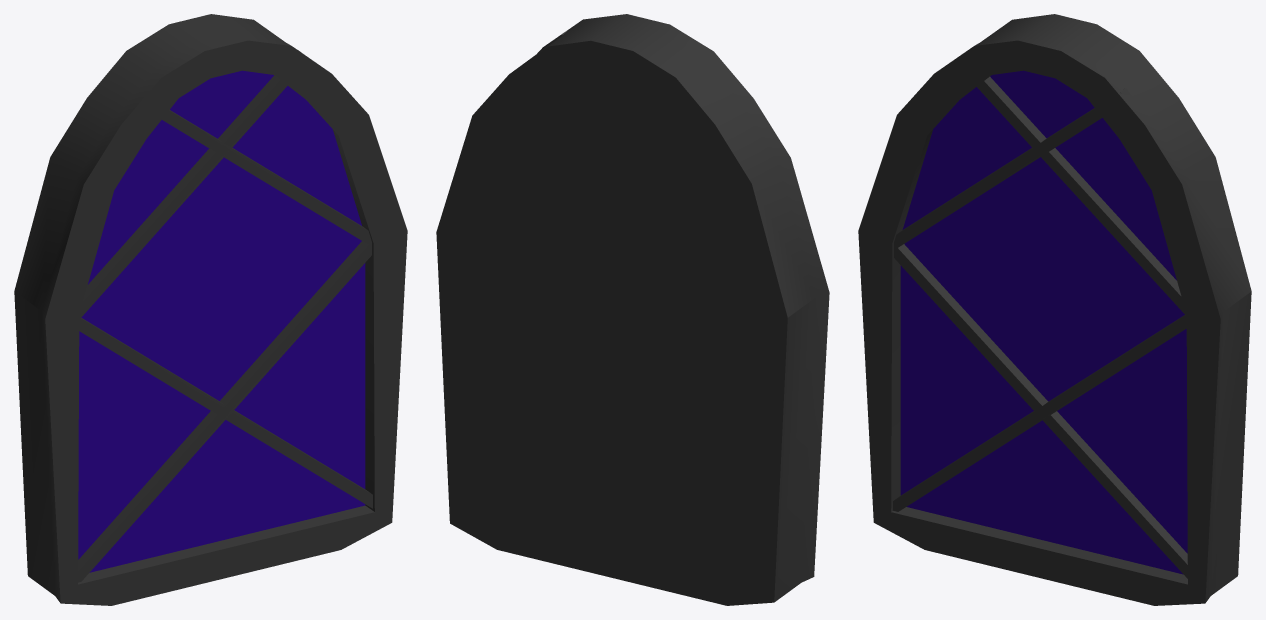
Rendered from WindowEXP02.fbx.
3 views of the same model, side by side, from view 1: azimuth 30°, elevation 25°; view 2: azimuth 150°, elevation 25°; view 3: azimuth 330°, elevation 25° (orthographic).
Visible parts, largest first — view 1: pCube7; view 2: pCube7; view 3: pCube7.
Part boxes in pixels (<box>): pCube7: <box>14,14,407,605</box>; pCube7: <box>436,14,829,605</box>; pCube7: <box>858,14,1251,605</box>.
Size of the model in its own units: 441 by 618 by 76.58.
